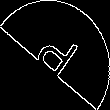P_SW: (28, 24, 82, 86)
